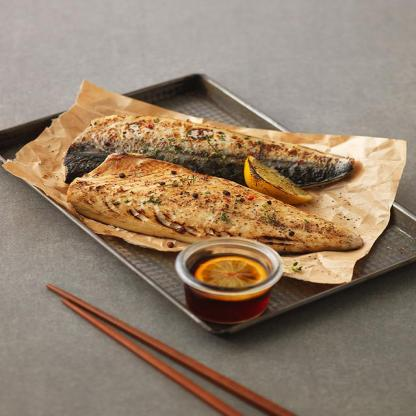Peixe: (17, 113, 374, 262)
